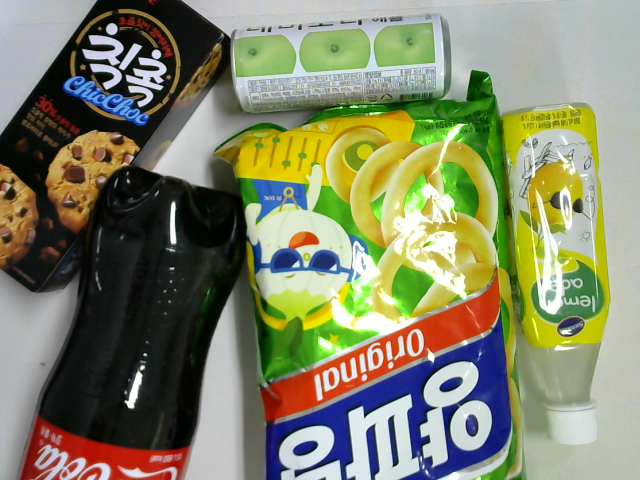Chicchok_Original_2400: (1, 1, 232, 294)
Coca_Cola_1.5L: (18, 167, 246, 480)
Demisoda_Apple_Can_250ml: (230, 14, 454, 116)
Oninon_Ring: (211, 70, 529, 480)
Sunkist_Lemonaid_Pet: (499, 99, 611, 449)
